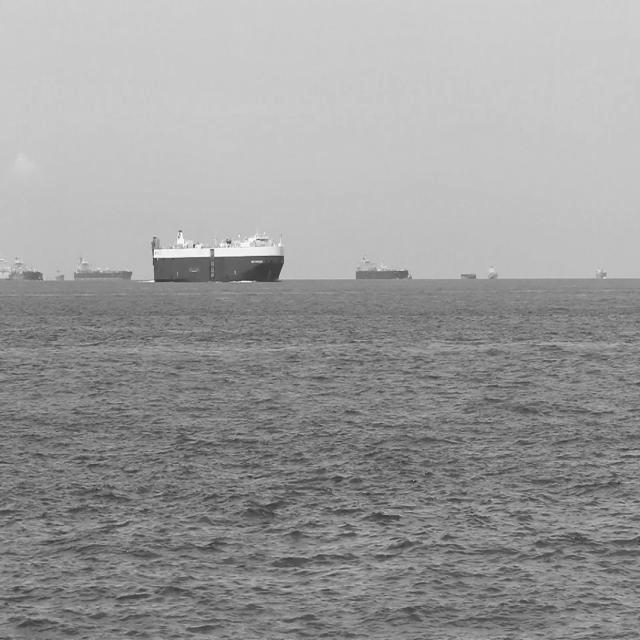ship: (150, 234, 284, 284), (354, 252, 406, 282), (8, 250, 44, 288), (71, 256, 131, 278), (0, 257, 15, 285), (482, 262, 500, 284), (458, 268, 478, 284), (592, 261, 607, 282), (54, 264, 66, 286), (406, 272, 414, 282)
